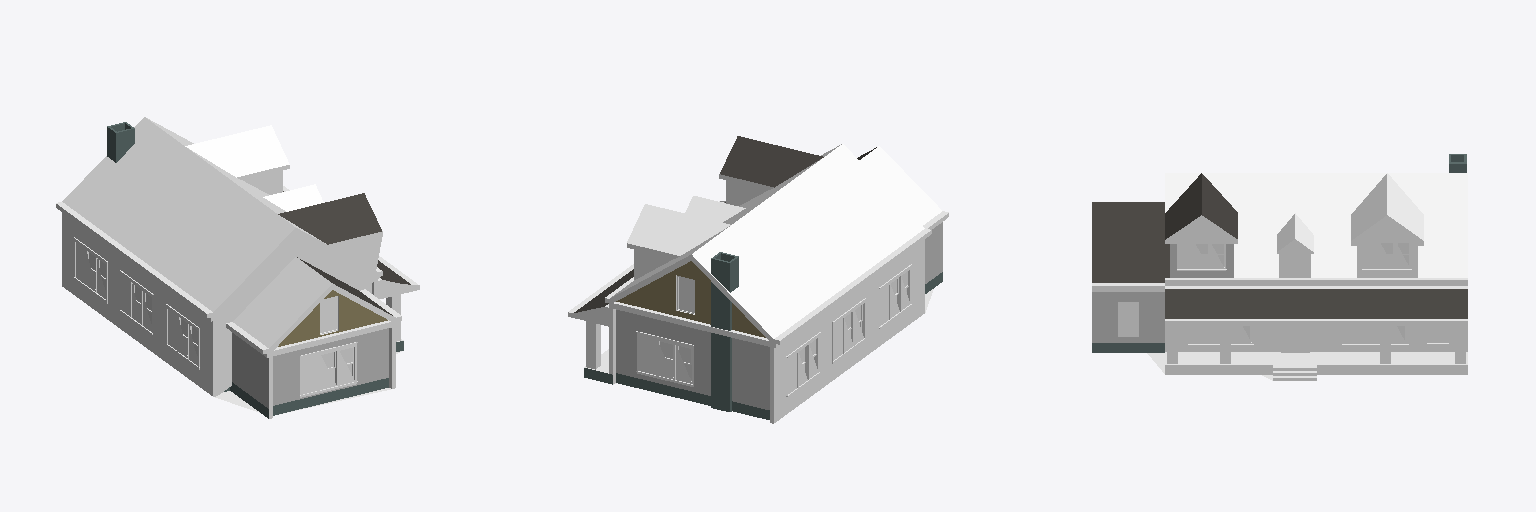
The model's file is Farm_House.obj.
The picture shows the model from 3 angles: view 1: azimuth 30°, elevation 25°; view 2: azimuth 150°, elevation 25°; view 3: azimuth 270°, elevation 25°; orthographic projection.
Parts seen in each view (by area): view 1: Mesh26 Model, Mesh15 Window_3lite_8__6x5__4_5 Model, Mesh20 Window_3lite_8__6x5__4_7 Model, Mesh19 Window_3lite_8__6x5__4_6 Model, Mesh21 Window_3lite_8__6x5__4_8 Model, Mesh18 WindowDoubleHung35x63_4 Model; view 2: Mesh26 Model, Mesh22 Window_3lite_8__6x5__4_9 Model, Mesh21 Window_3lite_8__6x5__4_8 Model, Mesh19 Window_3lite_8__6x5__4_6 Model, Mesh20 Window_3lite_8__6x5__4_7 Model, Mesh25 WindowDoubleHung35x63_5 Model; view 3: Mesh26 Model, Mesh3 Window_3lite_8__6x5__4_2 Model, Mesh2 Window_3lite_8__6x5__4_1 Model, Mesh7 Window_3lite_8__6x5__4_3 Model, Mesh8 Window_3lite_8__6x5__4_4 Model, Mesh1 Door_SglExtHeaderWLite_3__0x6__8_1 Model, Mesh14 WindowDoubleHung35x63_3 Model.
Part boxes in pixels (x1,y1,x2,y2): Mesh26 Model: (56,117,419,418); Mesh15 Window_3lite_8__6x5__4_5 Model: (300,342,357,397); Mesh20 Window_3lite_8__6x5__4_7 Model: (166,304,199,369); Mesh19 Window_3lite_8__6x5__4_6 Model: (74,237,107,303); Mesh21 Window_3lite_8__6x5__4_8 Model: (119,270,153,335); Mesh18 WindowDoubleHung35x63_4 Model: (320,296,338,334); Mesh26 Model: (568,136,948,423); Mesh22 Window_3lite_8__6x5__4_9 Model: (636,331,693,386); Mesh21 Window_3lite_8__6x5__4_8 Model: (832,298,865,363); Mesh19 Window_3lite_8__6x5__4_6 Model: (786,332,820,397); Mesh20 Window_3lite_8__6x5__4_7 Model: (879,264,912,329); Mesh25 WindowDoubleHung35x63_5 Model: (676,275,694,314); Mesh26 Model: (1092,154,1467,380); Mesh3 Window_3lite_8__6x5__4_2 Model: (1362,240,1411,270); Mesh2 Window_3lite_8__6x5__4_1 Model: (1177,244,1226,270); Mesh7 Window_3lite_8__6x5__4_3 Model: (1188,326,1253,346); Mesh8 Window_3lite_8__6x5__4_4 Model: (1342,326,1408,346); Mesh1 Door_SglExtHeaderWLite_3__0x6__8_1 Model: (1281,326,1309,352); Mesh14 WindowDoubleHung35x63_3 Model: (1118,302,1138,336).
Size of the model in its own units: 402 by 270 by 616.